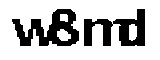8: (52, 8, 79, 48)
d: (119, 8, 151, 48)
m: (82, 16, 126, 51)
w: (10, 16, 53, 49)
